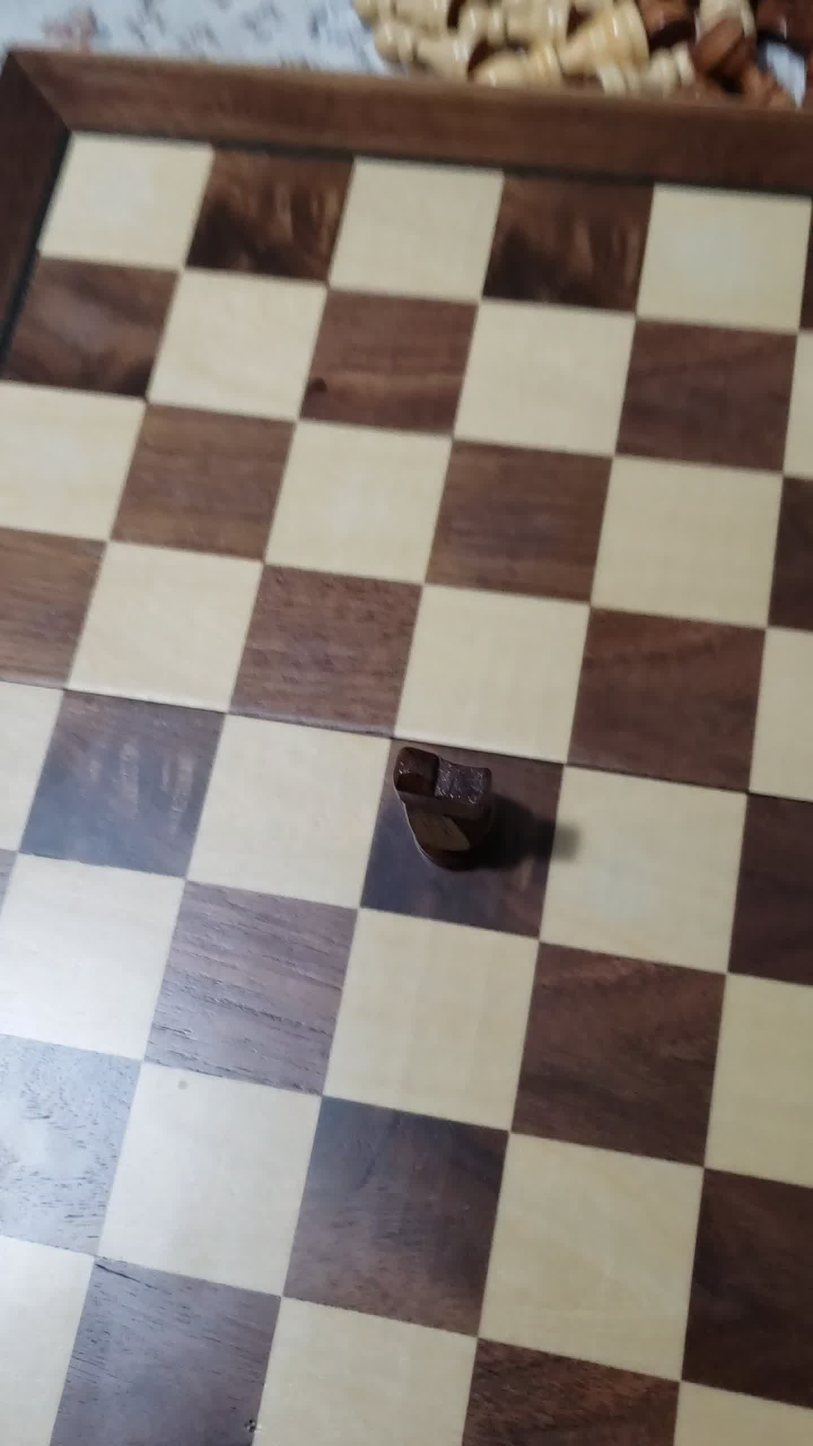black-knight: (347, 712, 555, 940)
